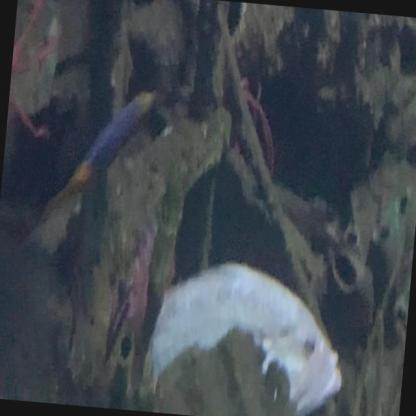fish: (141, 252, 352, 416), (39, 77, 158, 232)
